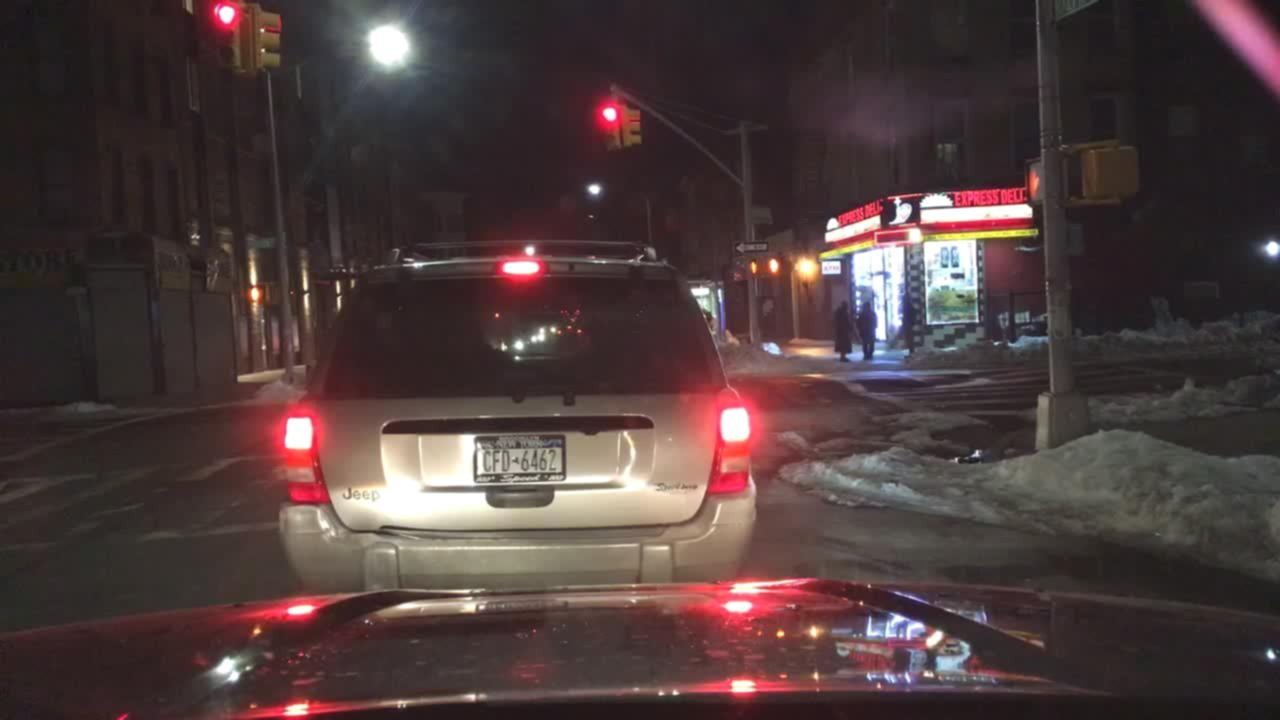jeep: (333, 479, 395, 513)
